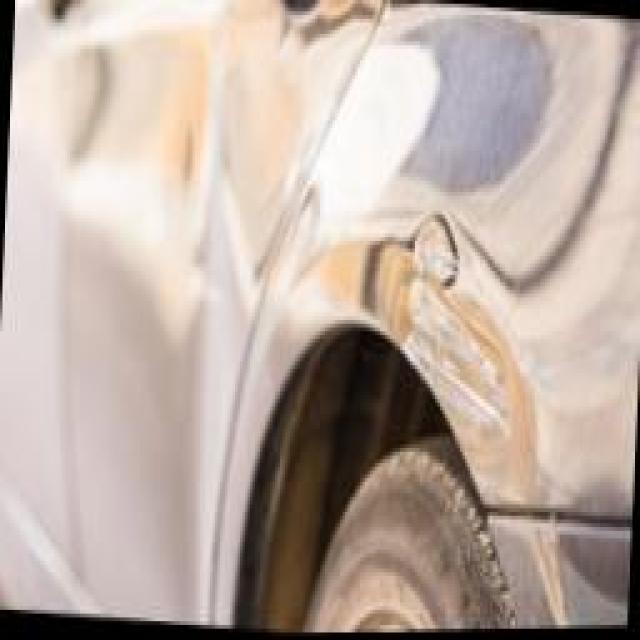Fender: (282, 169, 575, 540)
